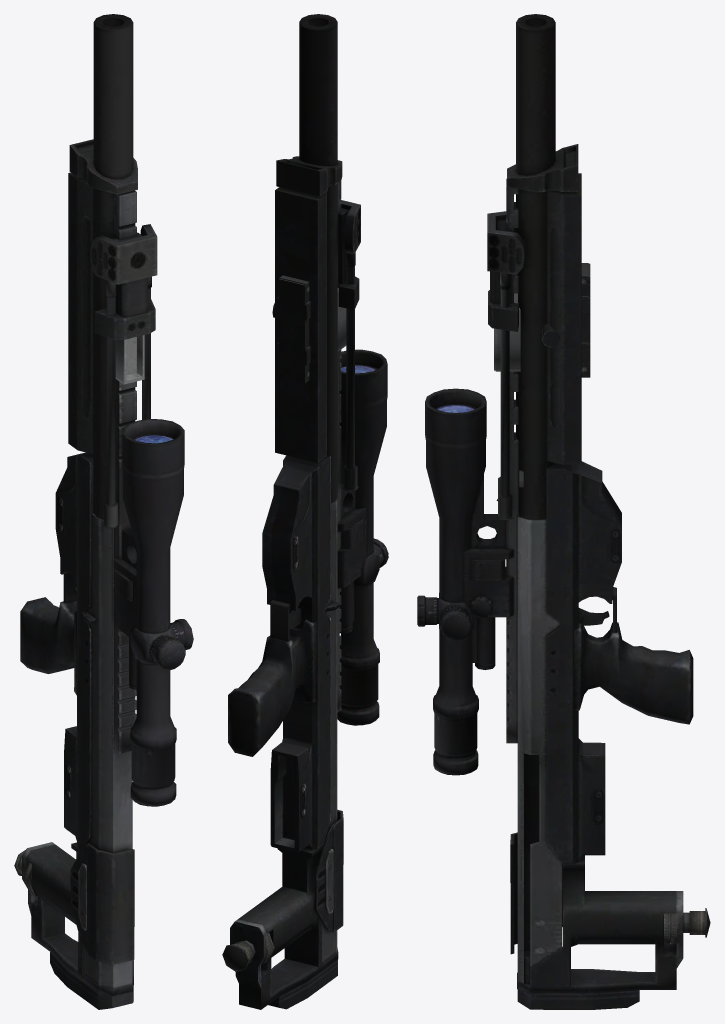
File: DSR-1.obj
3 renders of one model, left to right at view 1: azimuth 30°, elevation 25°; view 2: azimuth 150°, elevation 25°; view 3: azimuth 270°, elevation 25°, orthographic. The views are drawn at different scales.
Visible parts, largest first — view 1: DSR_1, DSR_1_scope, Model_PreMagazine, Magazine; view 2: DSR_1, DSR_1_scope, Magazine, Model_PreMagazine; view 3: DSR_1, DSR_1_scope, Magazine, Model_PreMagazine.
Part boxes in pixels (x1,y1,x2,y2): DSR_1: [14, 14, 157, 1009]; DSR_1_scope: [113, 418, 193, 806]; Model_PreMagazine: [115, 335, 144, 384]; Magazine: [115, 335, 141, 384]; DSR_1: [222, 14, 360, 1009]; DSR_1_scope: [337, 349, 388, 725]; Magazine: [277, 278, 346, 383]; Model_PreMagazine: [278, 275, 346, 381]; DSR_1: [487, 14, 710, 1009]; DSR_1_scope: [417, 388, 513, 775]; Magazine: [495, 263, 590, 377]; Model_PreMagazine: [494, 263, 588, 376].
Size of the model in its own units: 0.0741 by 1.03 by 0.2791.
3 materials, 3 textured.
